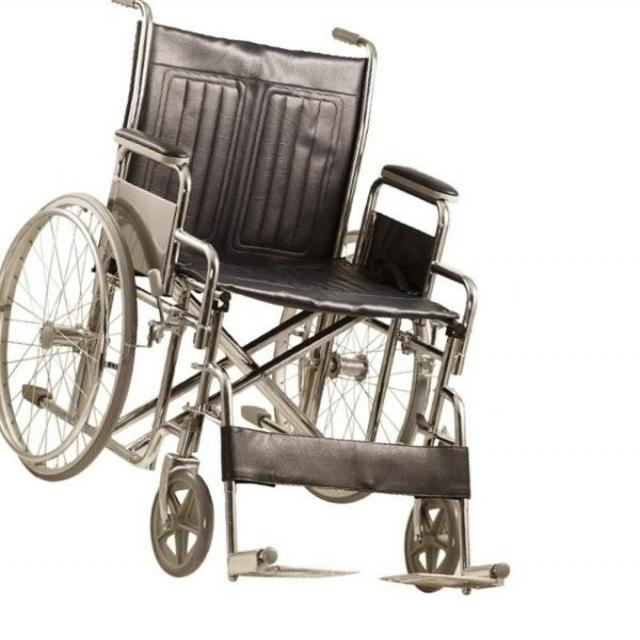wheelchair: (3, 0, 523, 603)
